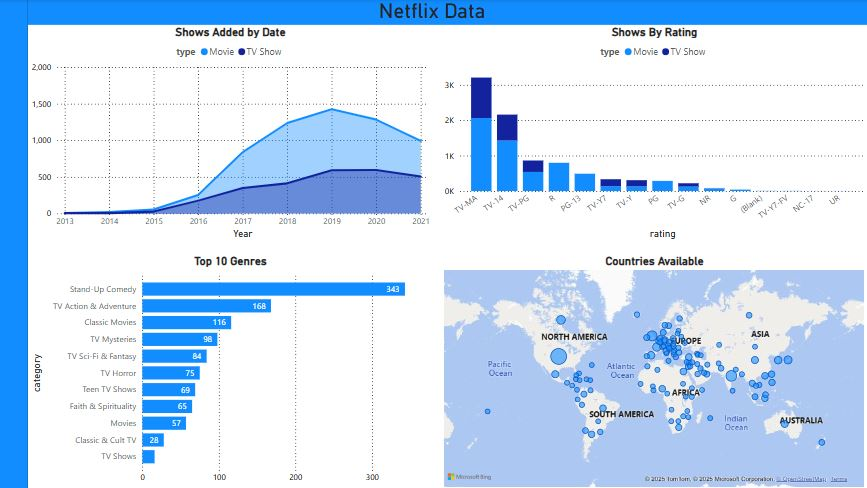

The page's visual inventory and layout, read from the dashboard file:
{"tool":"powerbi","page":{"name":"Overview","canvas":[1280,720],"ordinal":0},"visuals":[{"type":"areaChart","title":"Shows Added by Date","fields":{"Y":["CountNonNull(netflix_data titles.show_id)"],"Category":["netflix_data titles.date_added.Variation.Date Hierarchy.Year"],"Series":["netflix_data titles.type"]},"box":[45.6,38.2,595.1,320.3],"z":1000},{"type":"columnChart","title":"Shows By Rating","fields":{"Category":["netflix_data titles.rating"],"Y":["CountNonNull(netflix_data titles.show_id)"],"Series":["netflix_data titles.type"]},"box":[652.4,38.2,627.4,320.3],"z":2000},{"type":"clusteredBarChart","title":"Top 10 Genres","fields":{"Category":["netflix_data netflix_listed_in.category"],"Y":["CountNonNull(netflix_data netflix_listed_in.show_id)"]},"box":[45.6,374.7,595.1,346.8],"z":3000},{"type":"map","title":"Countries Available","fields":{"Category":["netflix_data countries_released.country"],"Size":["CountNonNull(netflix_data countries_released.show_id)"]},"box":[652.4,374.7,627.4,346.8],"z":4000},{"type":"shape","title":"Netflix Data","box":[0,0,1279.2,37.5],"z":4001},{"type":"shape","box":[0,0,45.6,721.5],"z":4002}]}

Visuals, with their boxes in screenshot pixels (x1, y1, x2, y2), scaled from the page's 1280x720 canvas onto the 867x488 screenshot:
"Shows Added by Date" areaChart: left=31, top=26, right=434, bottom=243
"Shows By Rating" columnChart: left=442, top=26, right=866, bottom=243
"Top 10 Genres" clusteredBarChart: left=31, top=254, right=434, bottom=487
"Countries Available" map: left=442, top=254, right=866, bottom=487
"Netflix Data" shape: left=0, top=0, right=866, bottom=25
shape: left=0, top=0, right=31, bottom=487
